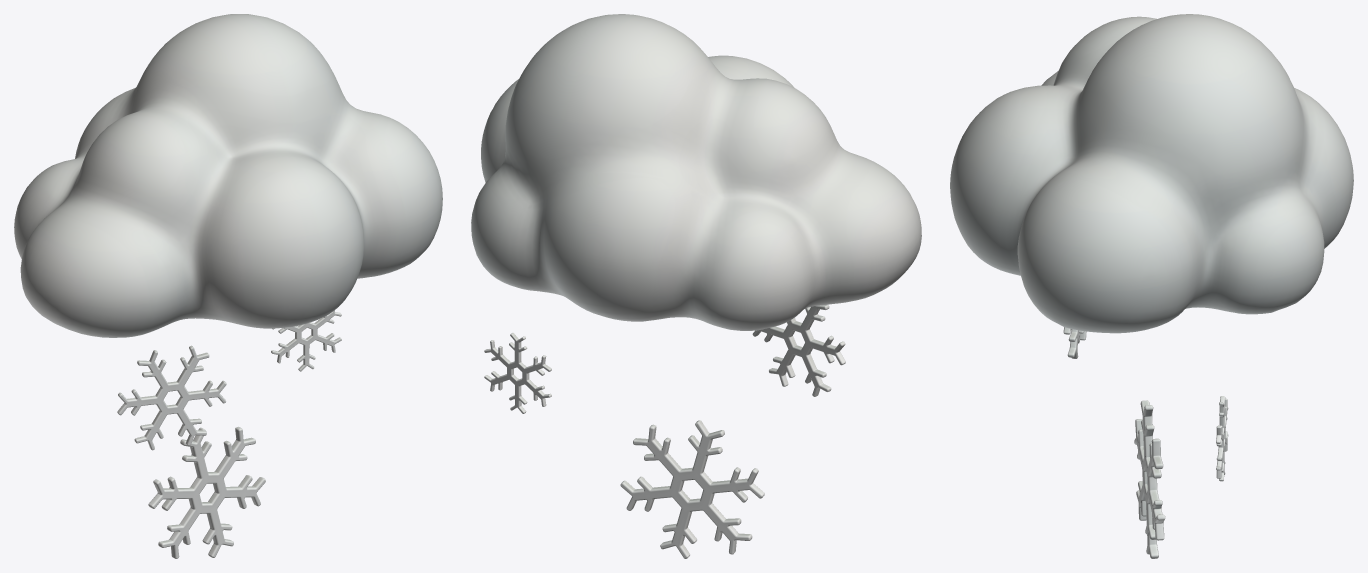
Rendered from snow.glb.
The picture shows the model from 3 angles, left to right: view 1: azimuth 30°, elevation 25°; view 2: azimuth 150°, elevation 25°; view 3: azimuth 270°, elevation 25°; orthographic projection. The views are drawn at different scales.
Parts seen in each view (by area): view 1: snow.1; view 2: snow.1; view 3: snow.1.
Part boxes in pixels (x1,y1,x2,y2): snow.1: (14,14,442,558); snow.1: (471,14,921,558); snow.1: (950,14,1353,558).
Bounding box in the file's own units: 0.1647 × 0.2018 × 0.1336.
Materials: 1 (1 with a texture image).
